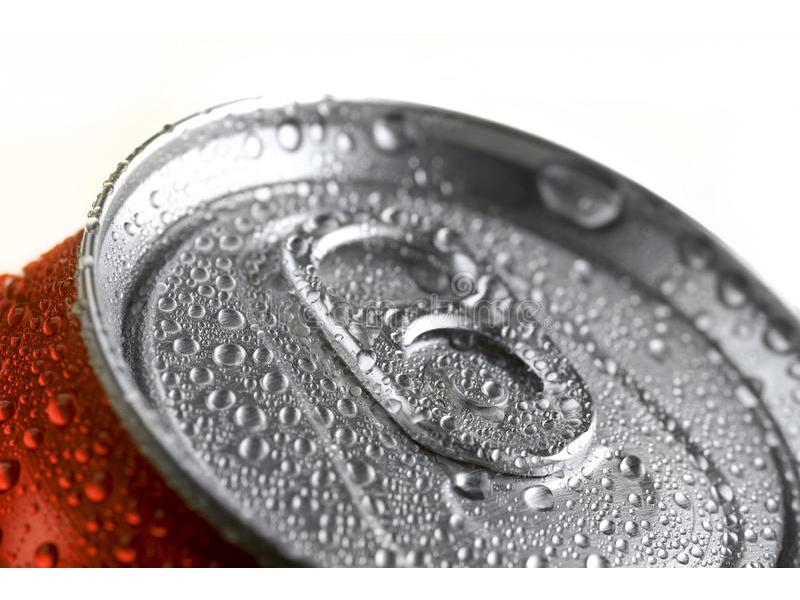can: (59, 69, 800, 567)
